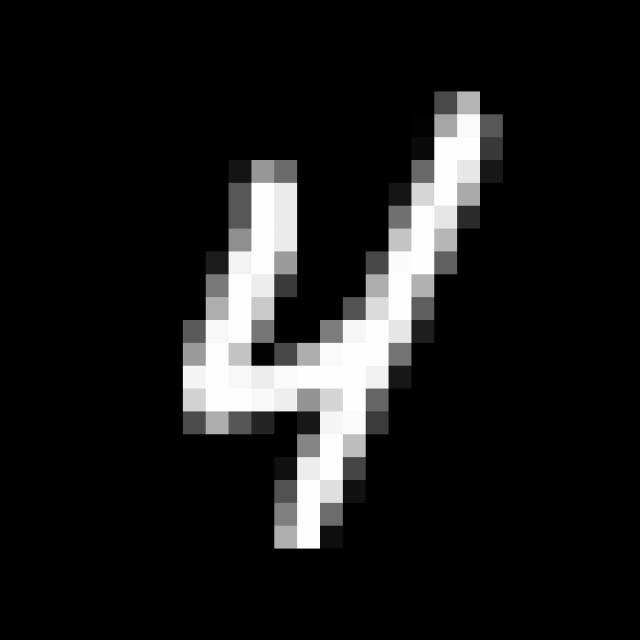four -4-: (160, 73, 517, 578)
